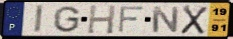F: (117, 5, 146, 34)
G: (51, 5, 82, 34)
H: (86, 4, 117, 35)
I: (33, 4, 45, 35)
N: (151, 6, 180, 34)
X: (179, 4, 210, 35)
